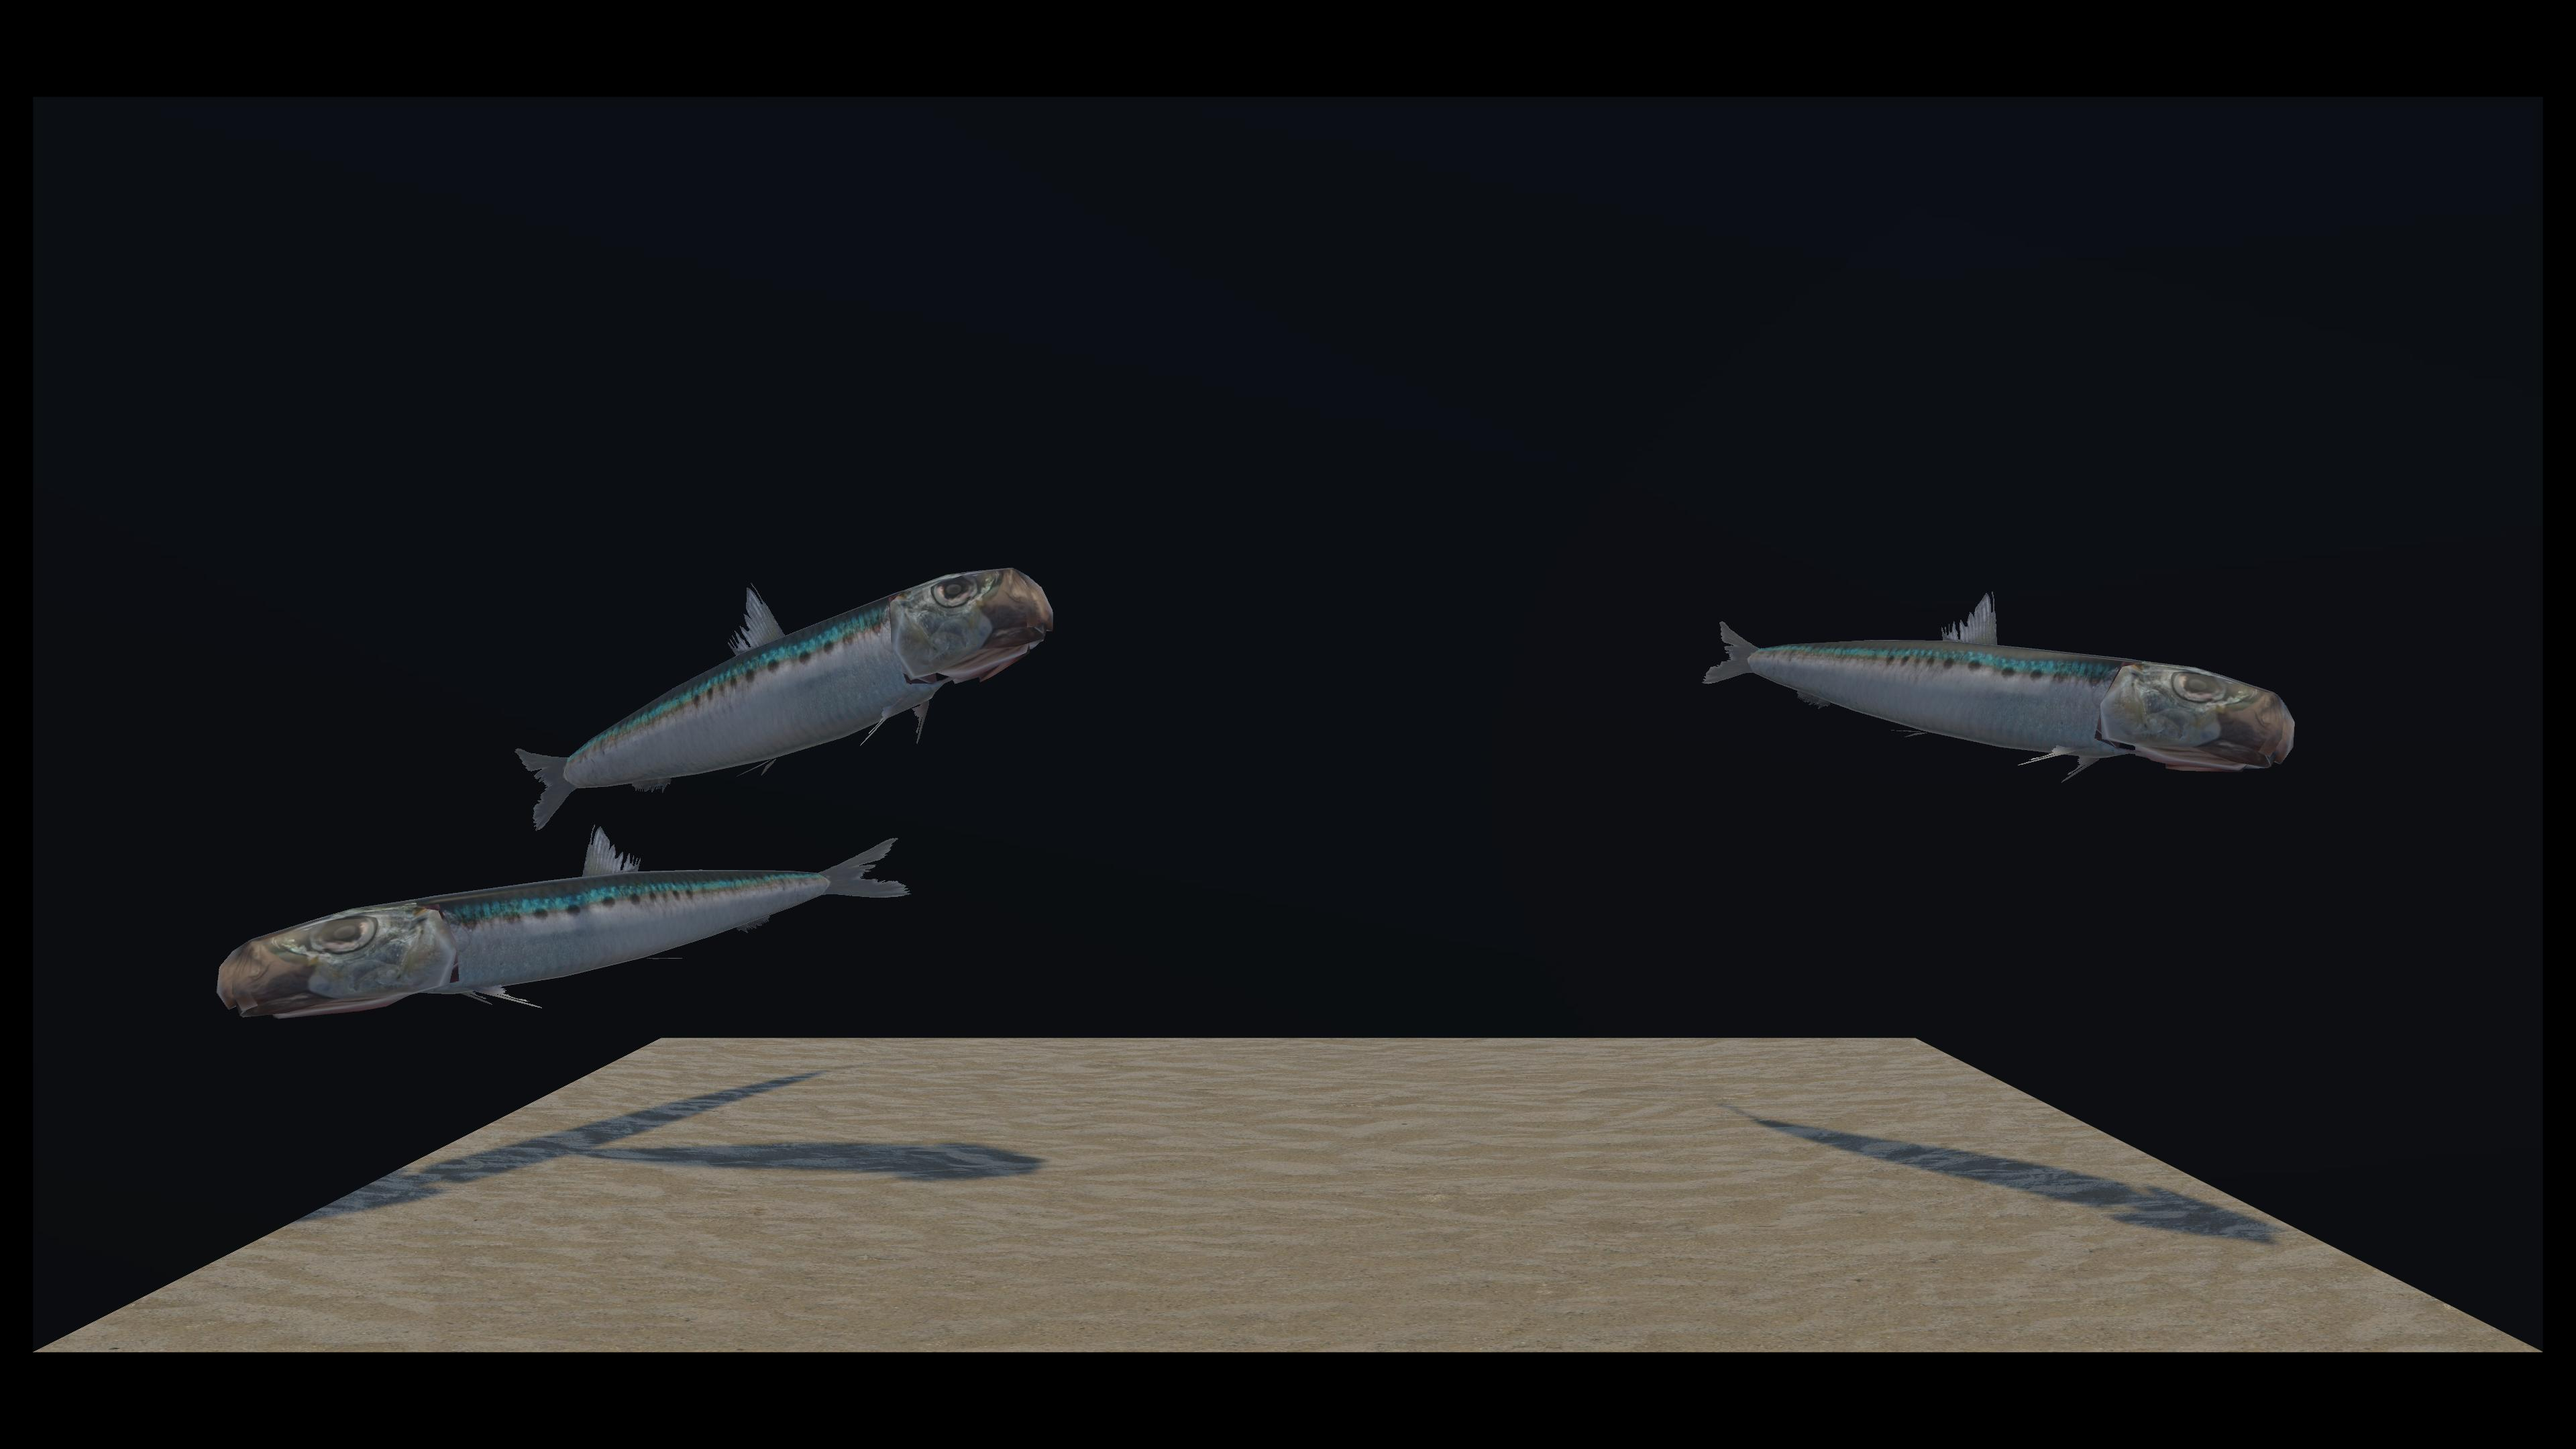Sardine_Front: (918, 361, 2272, 793), (255, 315, 966, 1021), (515, 511, 1010, 830)
